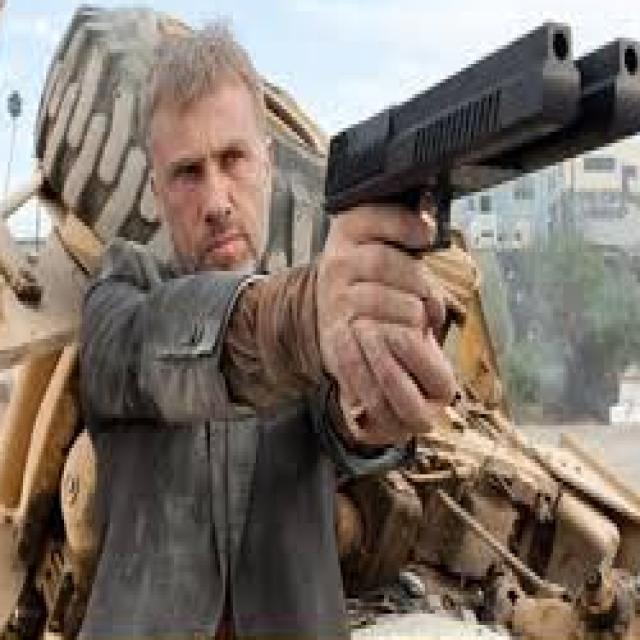gun: (290, 2, 584, 328), (440, 26, 640, 260)
